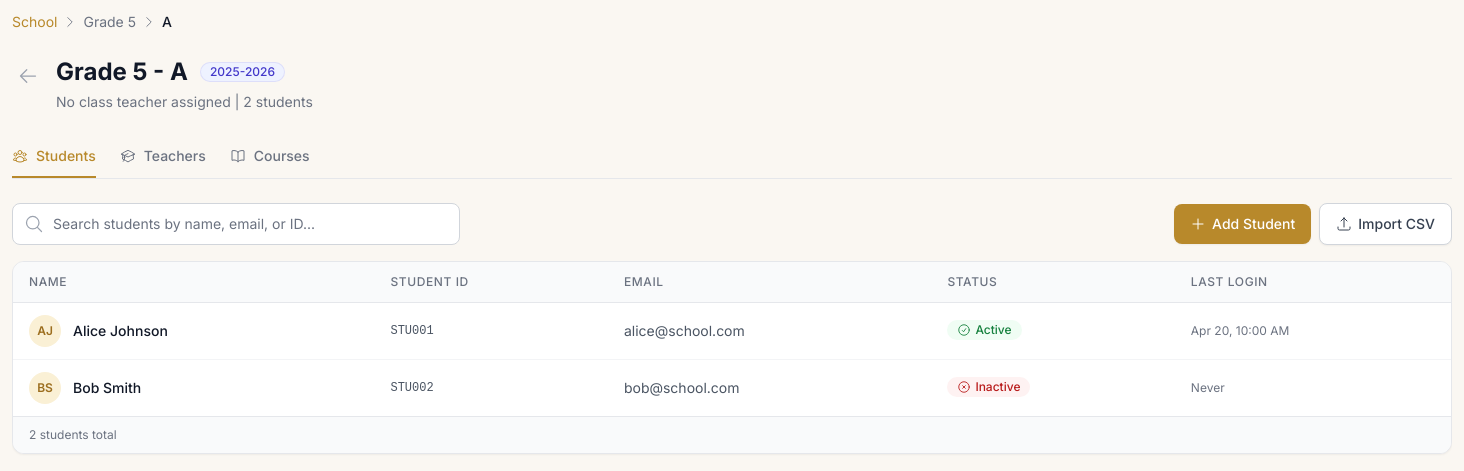
Test: SectionDetailPage › 3. Tab navigation › clicking back to "Students" tab re-shows student names
Click the button "Teachers" at (163, 157), box [120,136,206,178]
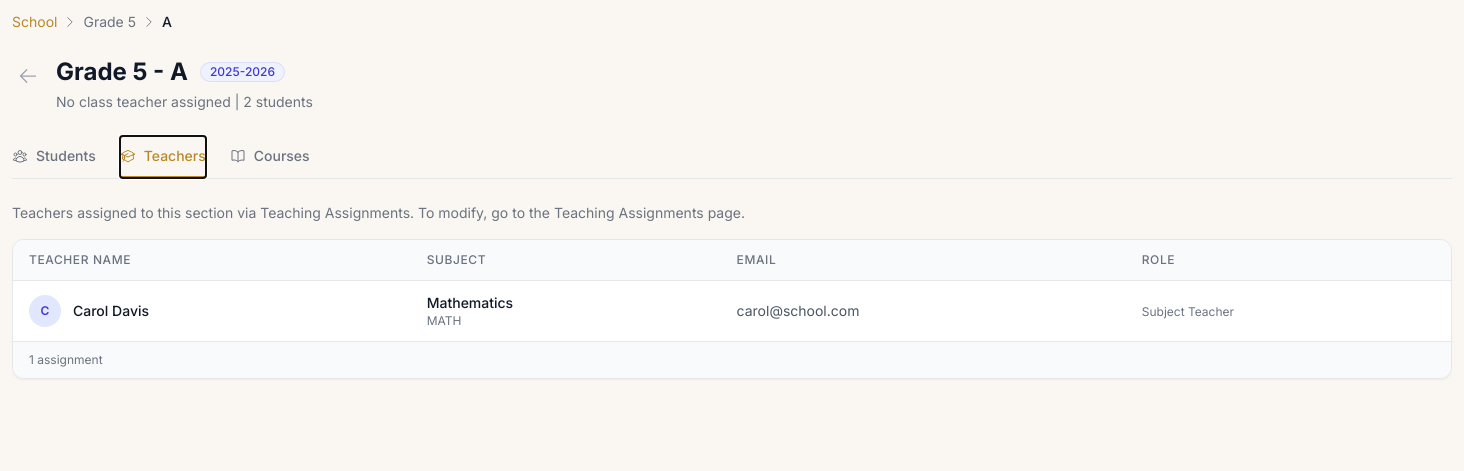
Now the text "Carol Davis" is shown, box [73,301,149,321]
Note: Switch back to Students tab
Click the button "Students" at (54, 157), box [12,136,96,178]
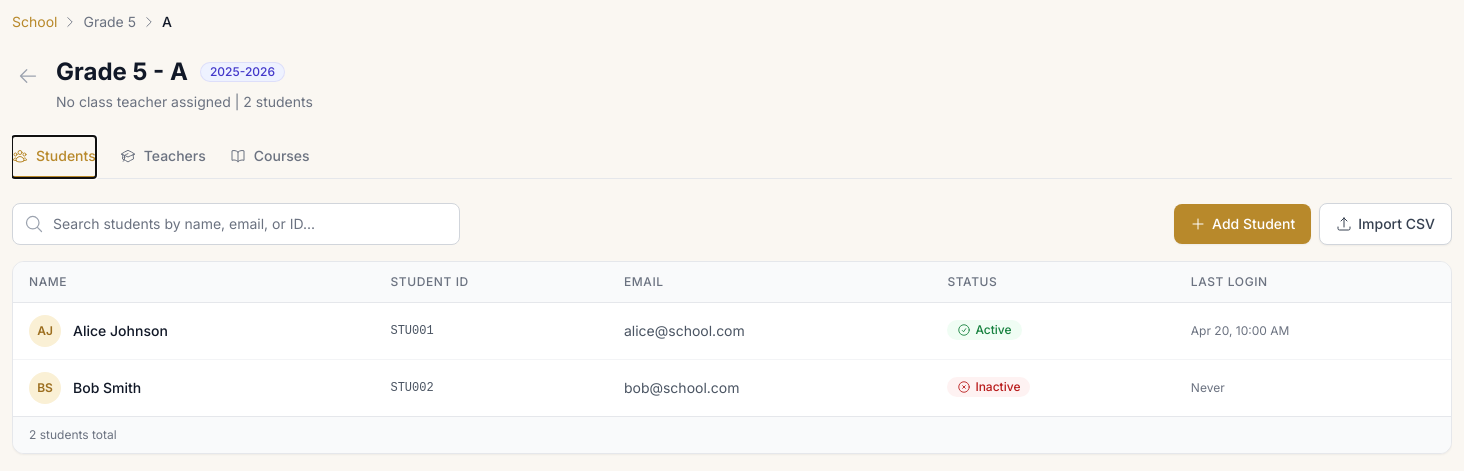
Now the text "Alice Johnson" is shown, box [73,321,168,341]
